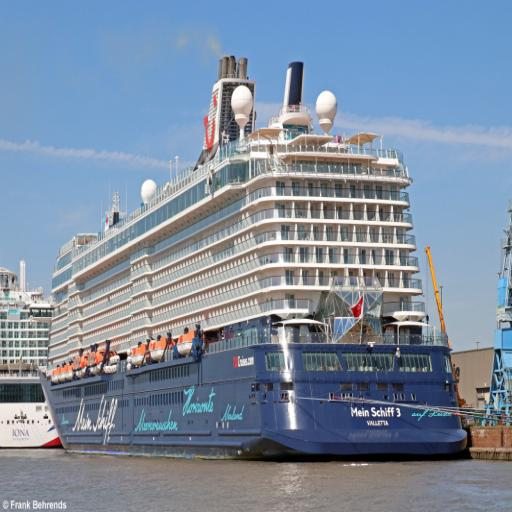cruises: (38, 53, 477, 471)
